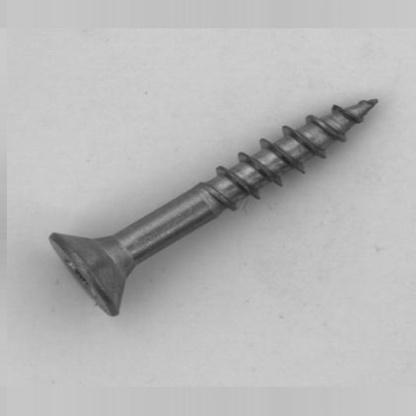metal: (48, 97, 378, 316)
